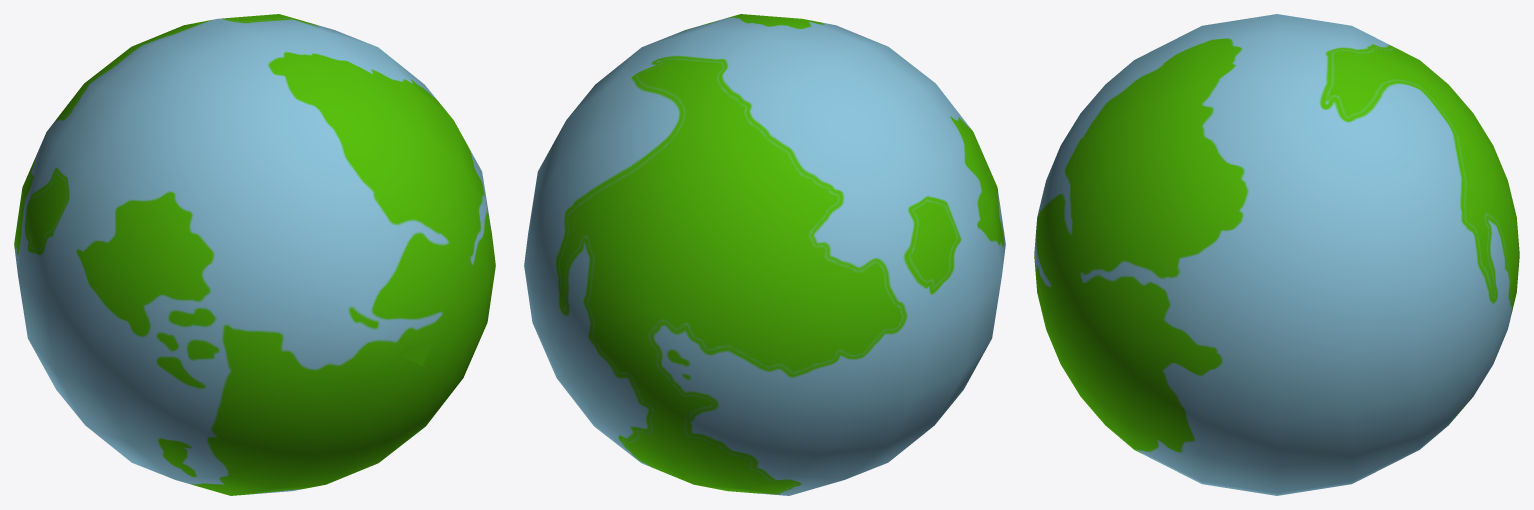
Rendered from Tierra.glb.
3 views of the same model, side by side, from view 1: azimuth 30°, elevation 25°; view 2: azimuth 150°, elevation 25°; view 3: azimuth 270°, elevation 25° (orthographic).
Parts seen in each view (by area): view 1: Planeta; view 2: Planeta; view 3: Planeta.
Part boxes in pixels (x1=…): Planeta: x1=14, y1=14, x2=495, y2=495; Planeta: x1=524, y1=14, x2=1005, y2=495; Planeta: x1=1034, y1=14, x2=1519, y2=495.
Size of the model in its own units: 0.1129 by 0.1129 by 0.1129.
Materials: 1 (1 with a texture image).
